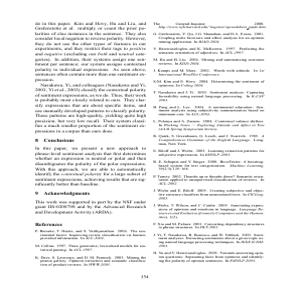text: (31, 20, 151, 271), (152, 20, 268, 268)
